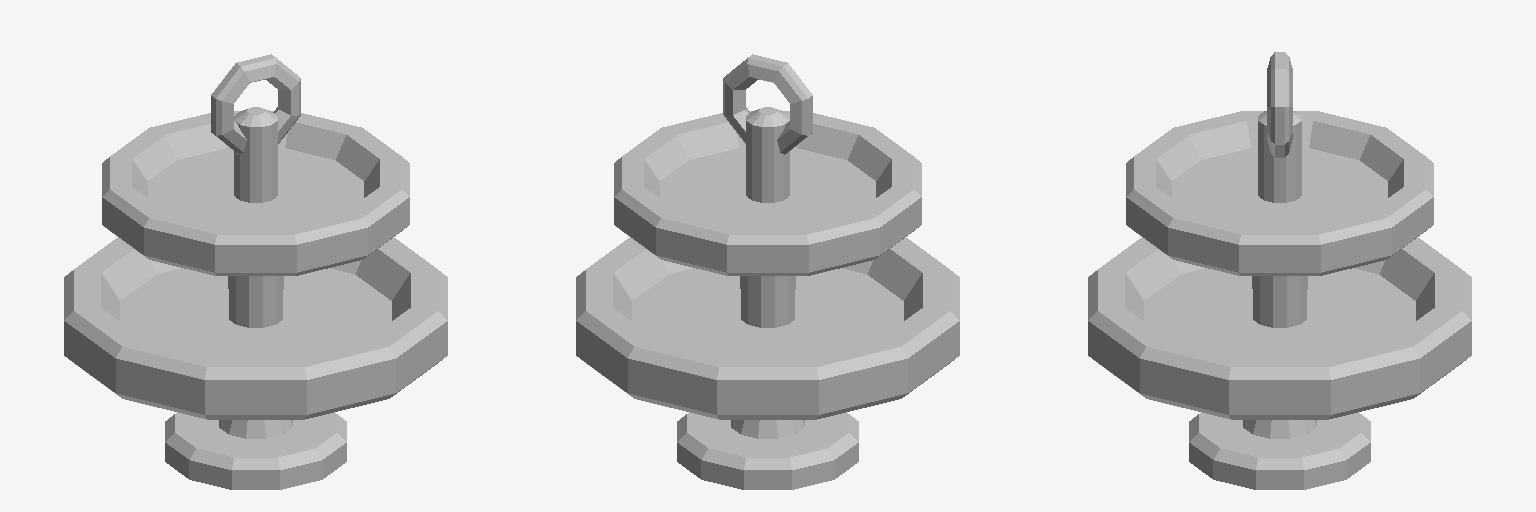
Rendered from pastry_stand_B.obj.
3 renders of one model, left to right at view 1: azimuth 30°, elevation 25°; view 2: azimuth 150°, elevation 25°; view 3: azimuth 270°, elevation 25°, orthographic.
Parts seen in each view (by area): view 1: pastry_stand_B; view 2: pastry_stand_B; view 3: pastry_stand_B.
Part boxes in pixels (x1,y1,x2,y2): pastry_stand_B: (64, 54, 447, 489); pastry_stand_B: (576, 54, 959, 489); pastry_stand_B: (1088, 52, 1471, 489).
Bounding box in the file's own units: 0.8 × 0.9 × 0.8.